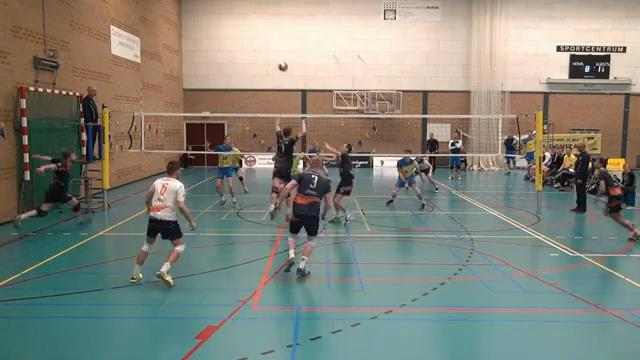Player: (129, 161, 196, 286), (276, 157, 331, 276), (14, 152, 80, 225), (591, 154, 640, 244), (269, 118, 305, 219), (325, 143, 354, 224), (386, 149, 425, 209), (214, 136, 236, 206), (415, 156, 438, 191), (231, 145, 248, 192), (307, 141, 328, 176), (291, 154, 307, 175)
ball: (278, 61, 289, 73)
